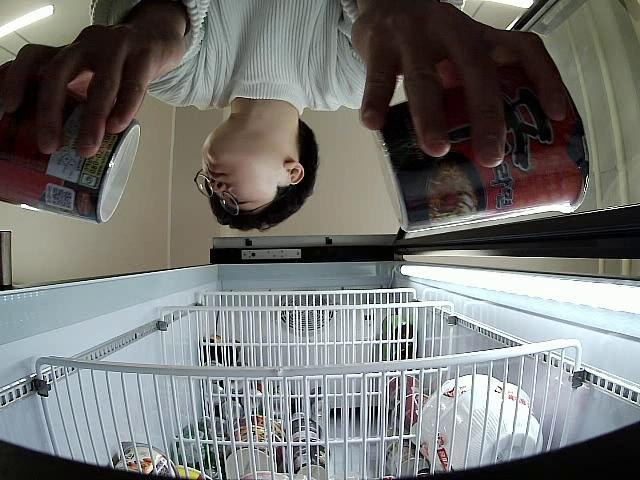00_hand: (351, 0, 569, 168), (0, 13, 188, 160)
02_shinRamen_S: (372, 86, 590, 233), (0, 57, 142, 225)
